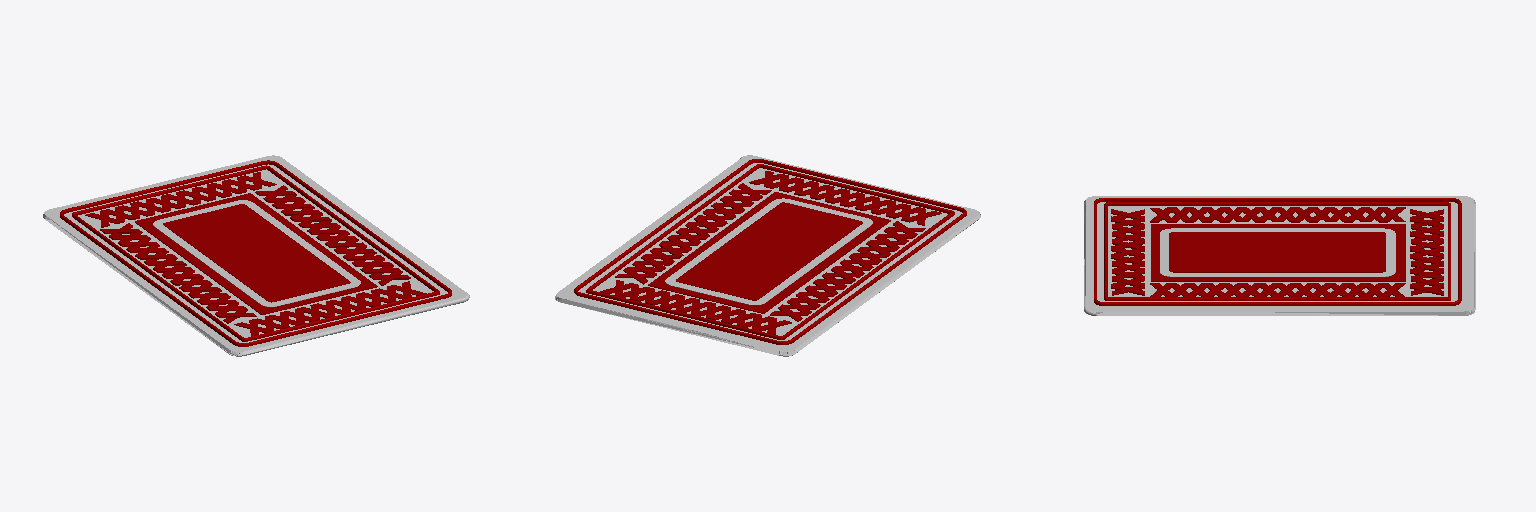
The model's file is back.obj.
The picture shows the model from 3 angles: view 1: azimuth 30°, elevation 25°; view 2: azimuth 150°, elevation 25°; view 3: azimuth 270°, elevation 25°; orthographic projection.
Visible parts, largest first — view 1: rect4266.110, path23, path443, path13, path15, path19; view 2: rect4266.110, path23, path443, path13, path15, path19; view 3: rect4266.110, path23, path443, path13, path15, path19.
Part boxes in pixels (bbox=[...]): rect4266.110: bbox=[43, 155, 469, 356]; path23: bbox=[163, 204, 350, 302]; path443: bbox=[60, 160, 451, 346]; path13: bbox=[72, 165, 439, 341]; path15: bbox=[135, 193, 377, 314]; path19: bbox=[153, 200, 360, 306]; rect4266.110: bbox=[555, 155, 980, 356]; path23: bbox=[676, 202, 862, 300]; path443: bbox=[574, 159, 966, 344]; path13: bbox=[586, 164, 954, 339]; path15: bbox=[648, 192, 890, 313]; path19: bbox=[665, 198, 872, 304]; rect4266.110: bbox=[1084, 196, 1475, 315]; path23: bbox=[1169, 232, 1385, 272]; path443: bbox=[1094, 198, 1461, 305]; path13: bbox=[1104, 202, 1450, 300]; path15: bbox=[1151, 224, 1405, 281]; path19: bbox=[1160, 228, 1395, 276].
Bounding box in the file's own units: 2.88 × 0.1219 × 4.08.